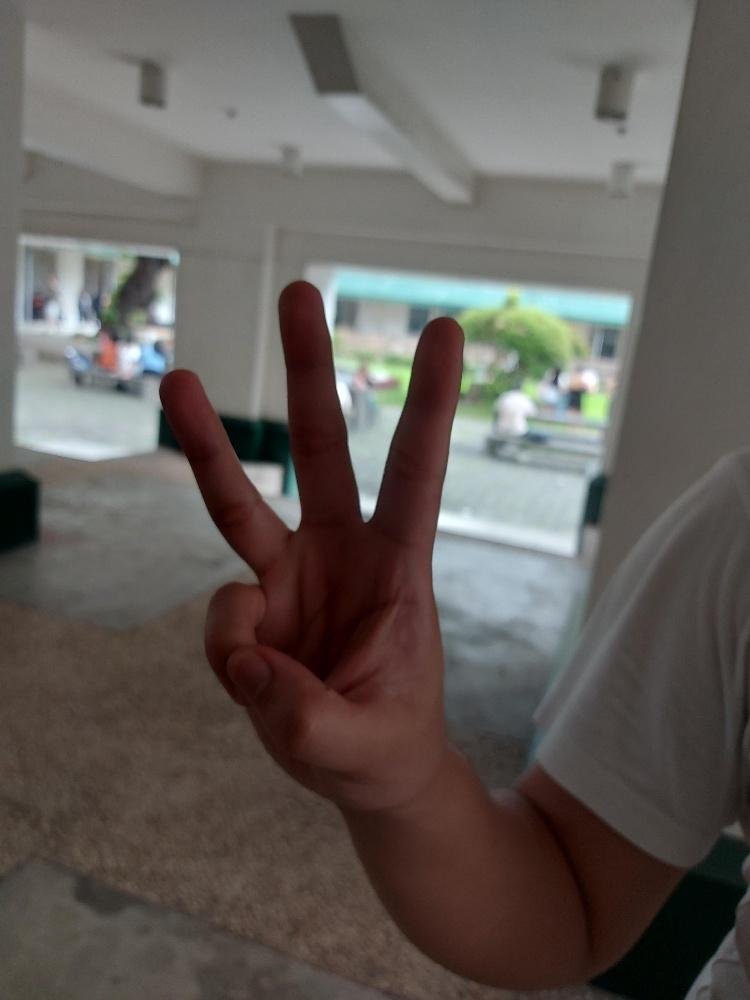w: (154, 276, 466, 814)
